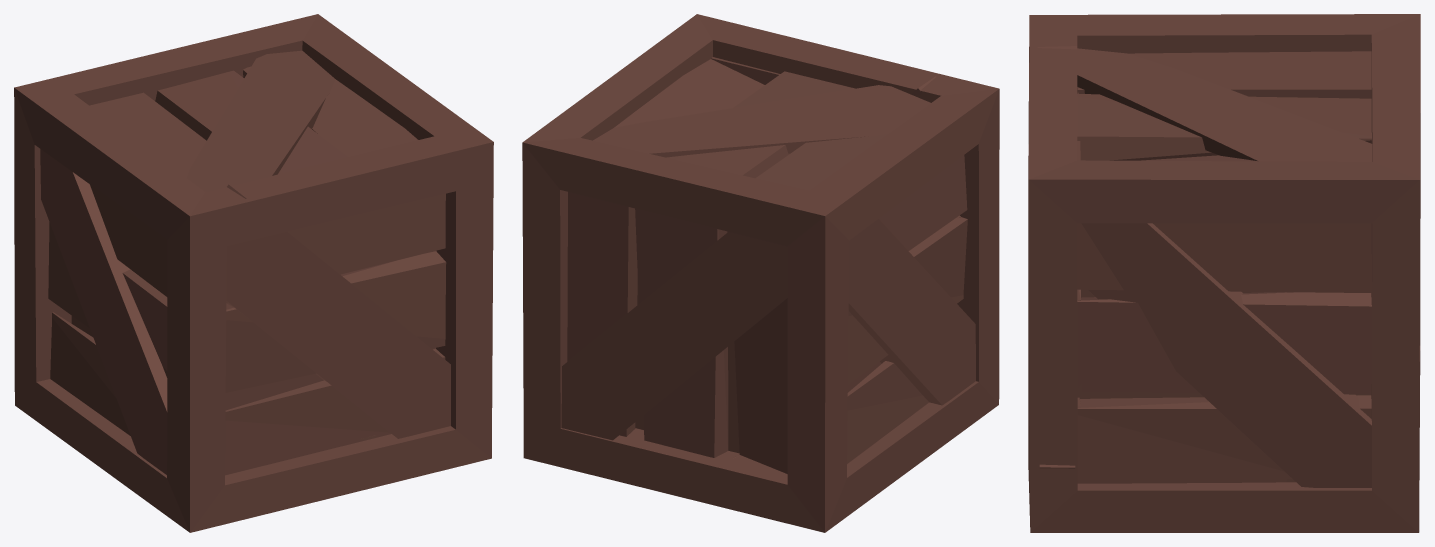
File: Box_background.fbx
3 views of the same model, side by side, from view 1: azimuth 30°, elevation 25°; view 2: azimuth 150°, elevation 25°; view 3: azimuth 270°, elevation 25° (orthographic). The views are drawn at different scales.
Parts seen in each view (by area): view 1: Box_background; view 2: Box_background; view 3: Box_background.
Boxes of the visible parts, x1=… form: Box_background: x1=14, y1=14, x2=493, y2=532; Box_background: x1=522, y1=14, x2=999, y2=532; Box_background: x1=1028, y1=14, x2=1420, y2=532.
Size of the model in its own units: 2.02 by 2.02 by 2.01.
